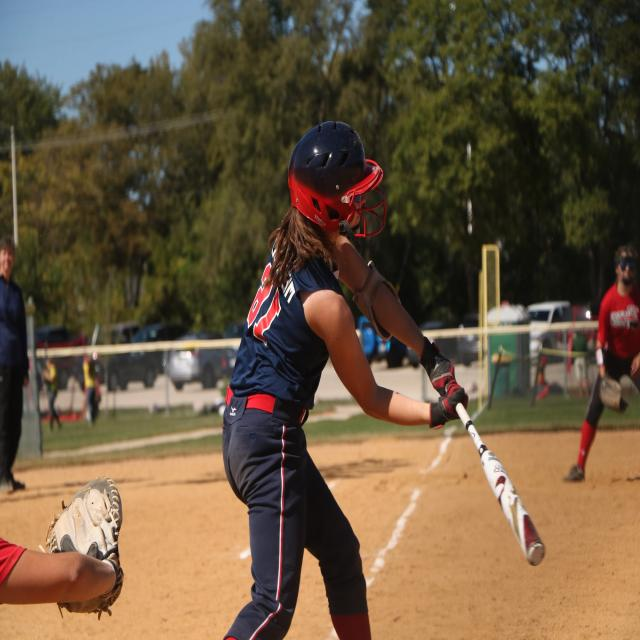adult: (222, 120, 470, 640), (564, 240, 640, 484)
